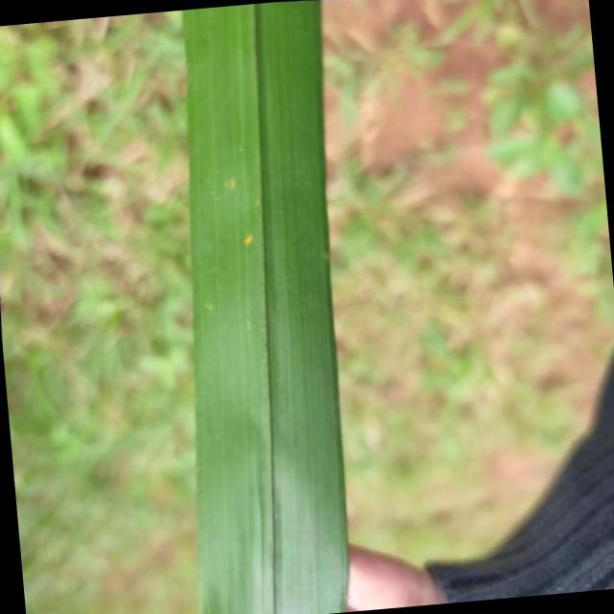Kalium: (182, 0, 339, 614)
